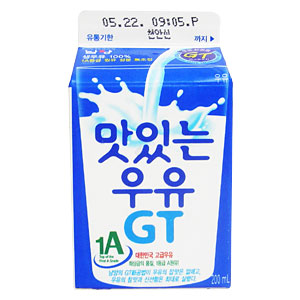milk: (70, 9, 232, 288)
